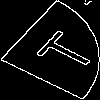T: (25, 24, 100, 77)
